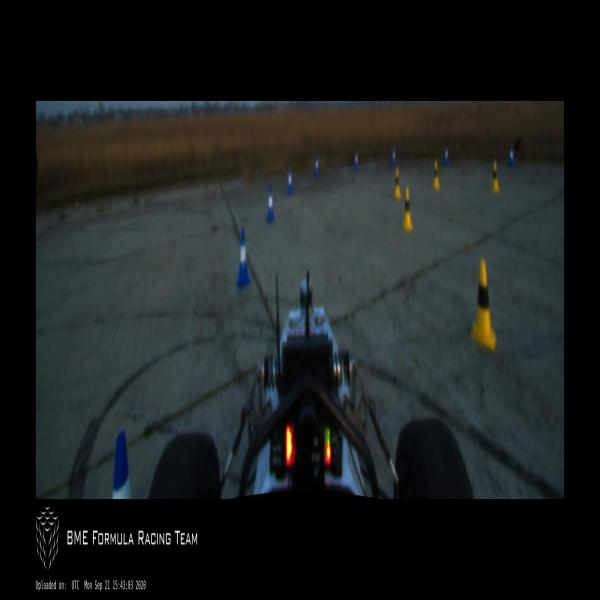blue_cone: (112, 430, 132, 499), (236, 228, 251, 291), (266, 185, 274, 223), (287, 169, 293, 195), (508, 145, 514, 168), (444, 145, 449, 166), (315, 158, 319, 177), (392, 148, 396, 167), (354, 152, 358, 170)
yellow_cone: (470, 258, 496, 352), (403, 186, 412, 231), (491, 159, 500, 193), (394, 166, 401, 200), (433, 159, 440, 191)
